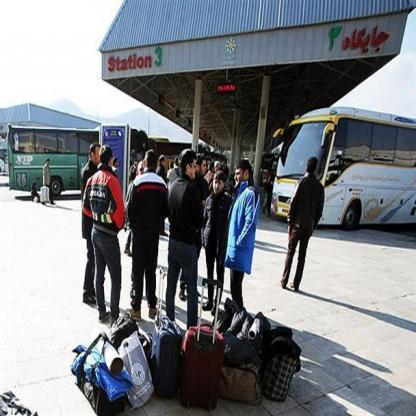Bus: (260, 96, 416, 226), (12, 116, 100, 206)
